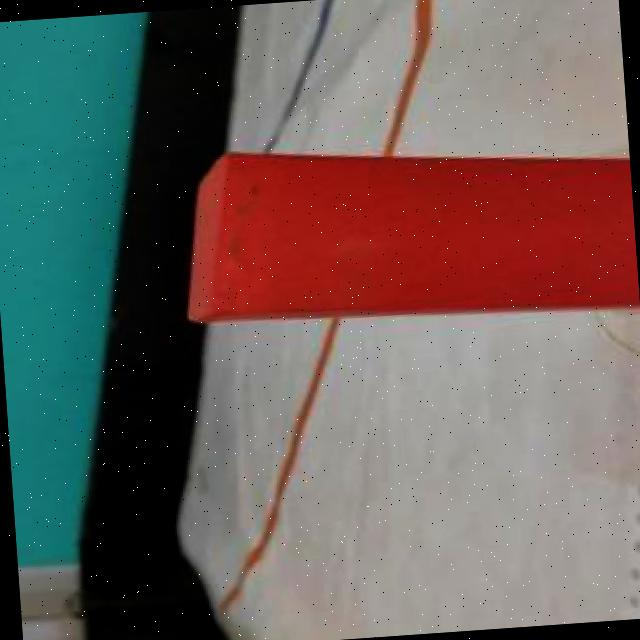redbox: (170, 126, 640, 343)
